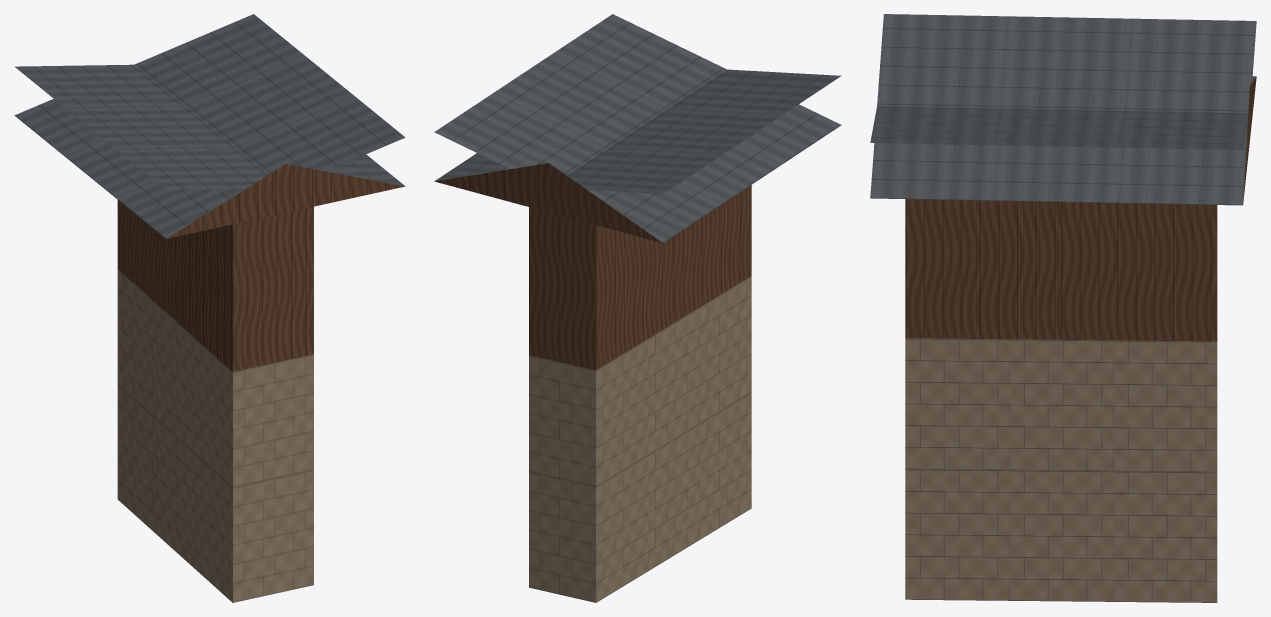
File: bld_c33_-40_443.gltf
The picture shows the model from 3 angles, left to right: view 1: azimuth 30°, elevation 25°; view 2: azimuth 150°, elevation 25°; view 3: azimuth 270°, elevation 25°; orthographic projection. The views are drawn at different scales.
Parts seen in each view (by area): view 1: bld_c33_-40_443; view 2: bld_c33_-40_443; view 3: bld_c33_-40_443.
Boxes of the visible parts, x1,y1,x2,y2 form: bld_c33_-40_443: (14,14,405,602); bld_c33_-40_443: (434,14,841,602); bld_c33_-40_443: (870,14,1256,602).
Bounding box in the file's own units: 5.27 × 9 × 6.32.
4 materials, 4 textured.
